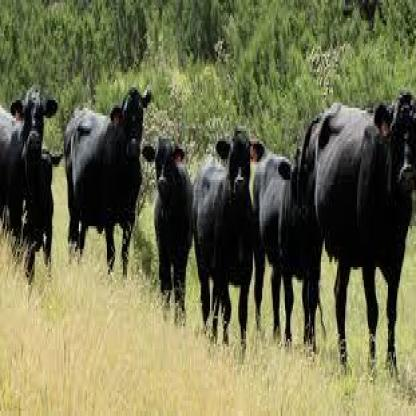cow: (299, 97, 416, 377), (61, 87, 154, 275), (194, 128, 265, 357), (0, 91, 60, 279), (251, 154, 308, 349), (142, 140, 200, 327)
